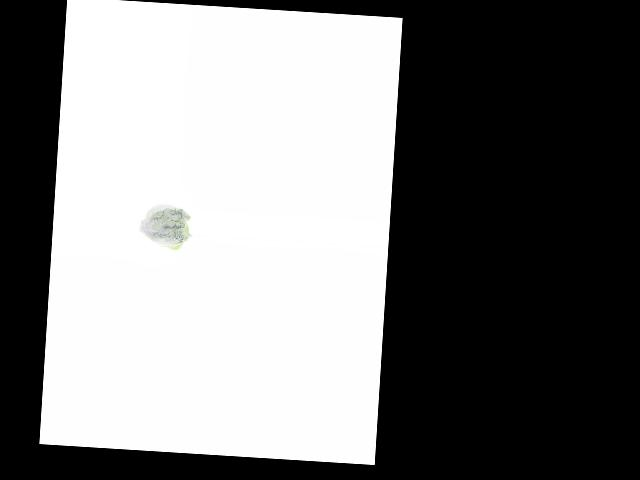lettuce: (138, 201, 192, 253)
